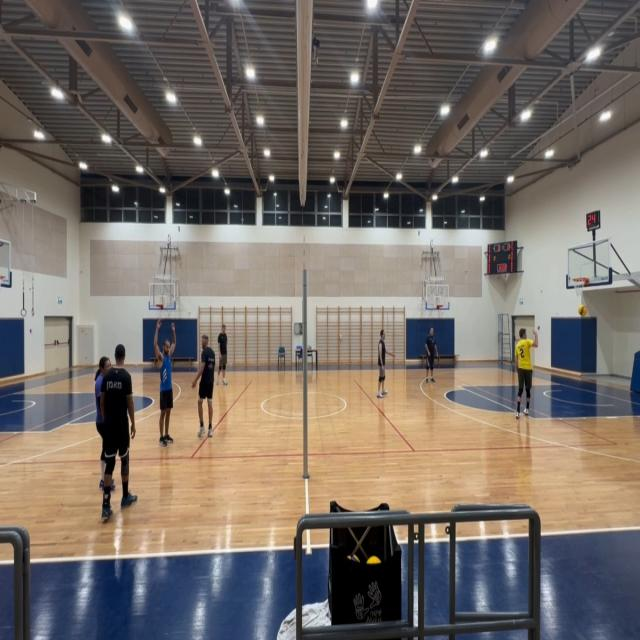volleyball: (578, 304, 588, 316)
